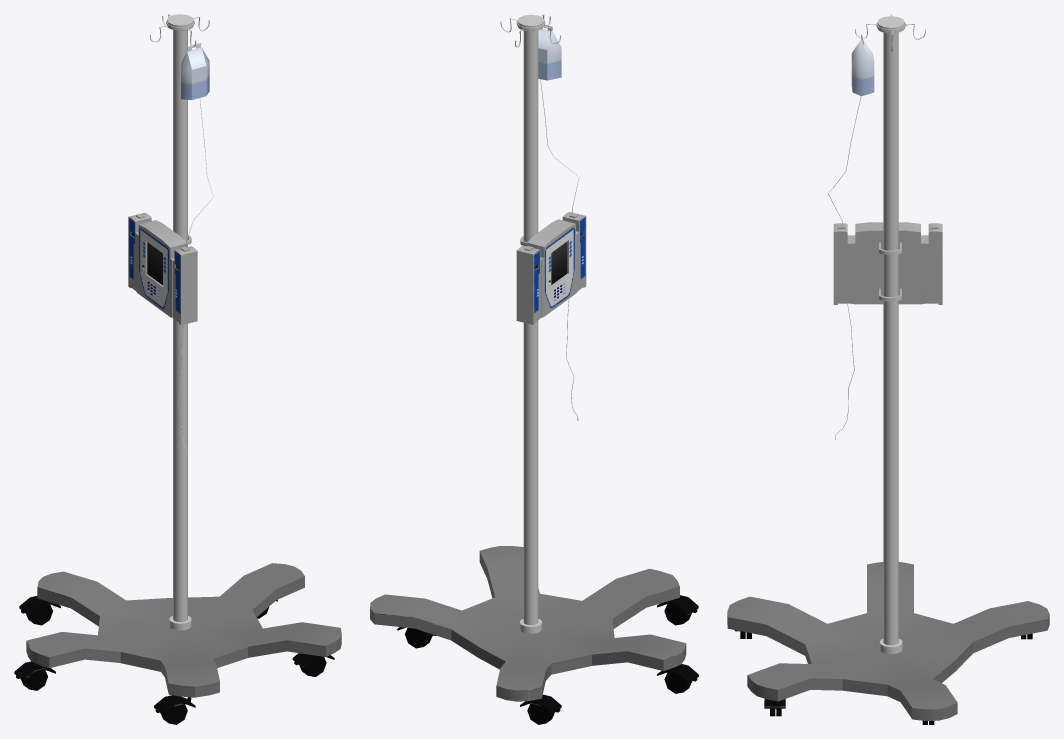
Rendered from iv-stand.glb.
3 views of the same model, side by side, from view 1: azimuth 30°, elevation 25°; view 2: azimuth 150°, elevation 25°; view 3: azimuth 270°, elevation 25° (orthographic). The views are drawn at different scales.
Parts seen in each view (by area): view 1: Cylinder001; view 2: Cylinder001; view 3: Cylinder001.
Boxes of the visible parts, left/top/right/bottom form: Cylinder001: left=14, top=14, right=341, bottom=724; Cylinder001: left=370, top=14, right=698, bottom=724; Cylinder001: left=727, top=14, right=1049, bottom=724.
Size of the model in its own units: 0.9484 by 1.9 by 0.847.
Materials: 1 (1 with a texture image).
